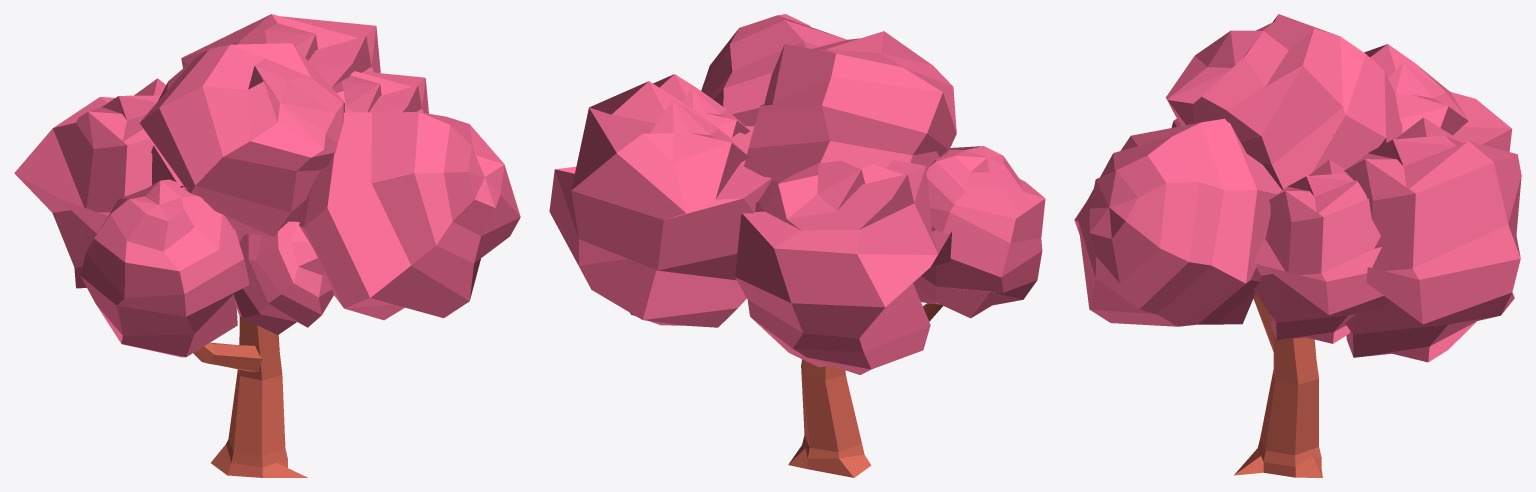
File: Tree5_autumn.FBX
3 views of the same model, side by side, from view 1: azimuth 30°, elevation 25°; view 2: azimuth 150°, elevation 25°; view 3: azimuth 270°, elevation 25° (orthographic). The views are drawn at different scales.
Visible parts, largest first — view 1: Tree 3 autumn.005; view 2: Tree 3 autumn.005; view 3: Tree 3 autumn.005.
Boxes of the visible parts, box(x1,y1,x2,y2) form: Tree 3 autumn.005: box(14, 14, 520, 477); Tree 3 autumn.005: box(549, 14, 1045, 477); Tree 3 autumn.005: box(1074, 14, 1521, 477).
Size of the model in its own units: 7.24 by 7.36 by 6.98.
